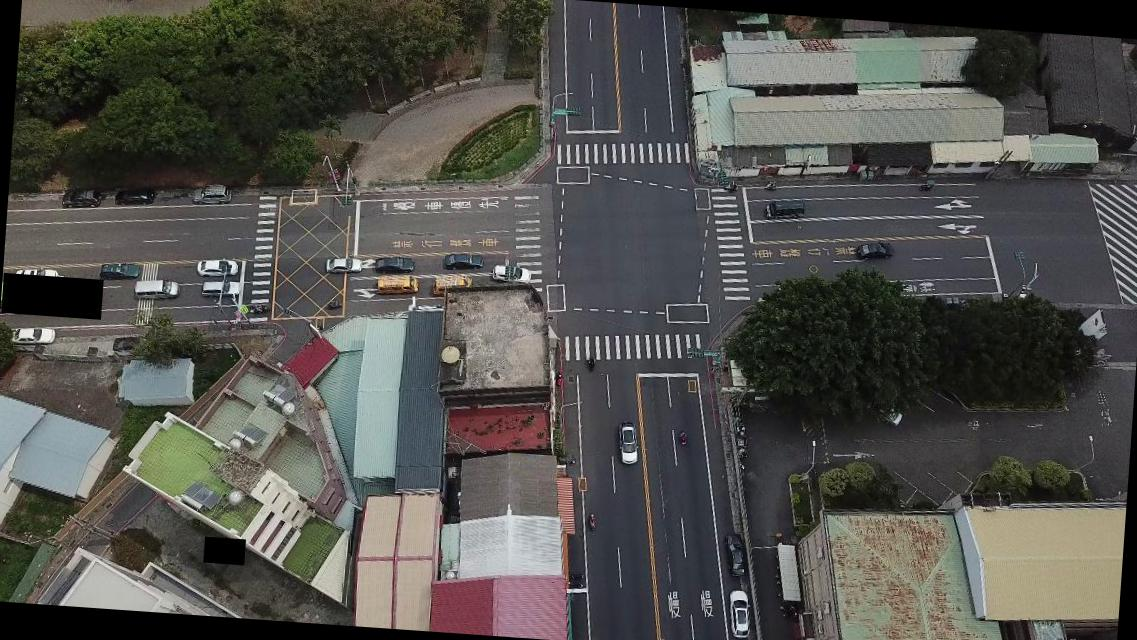vehicle: (724, 588, 750, 640), (722, 530, 748, 580), (374, 272, 420, 298), (614, 419, 639, 466), (7, 324, 57, 346), (766, 195, 806, 222), (488, 262, 532, 286), (194, 254, 238, 278), (132, 278, 179, 300), (430, 272, 472, 296), (372, 252, 415, 275), (190, 181, 229, 206), (111, 186, 153, 208), (856, 237, 892, 262), (442, 250, 484, 271), (58, 189, 100, 210), (199, 278, 241, 298), (14, 266, 60, 284), (98, 261, 141, 280), (324, 254, 362, 274)
